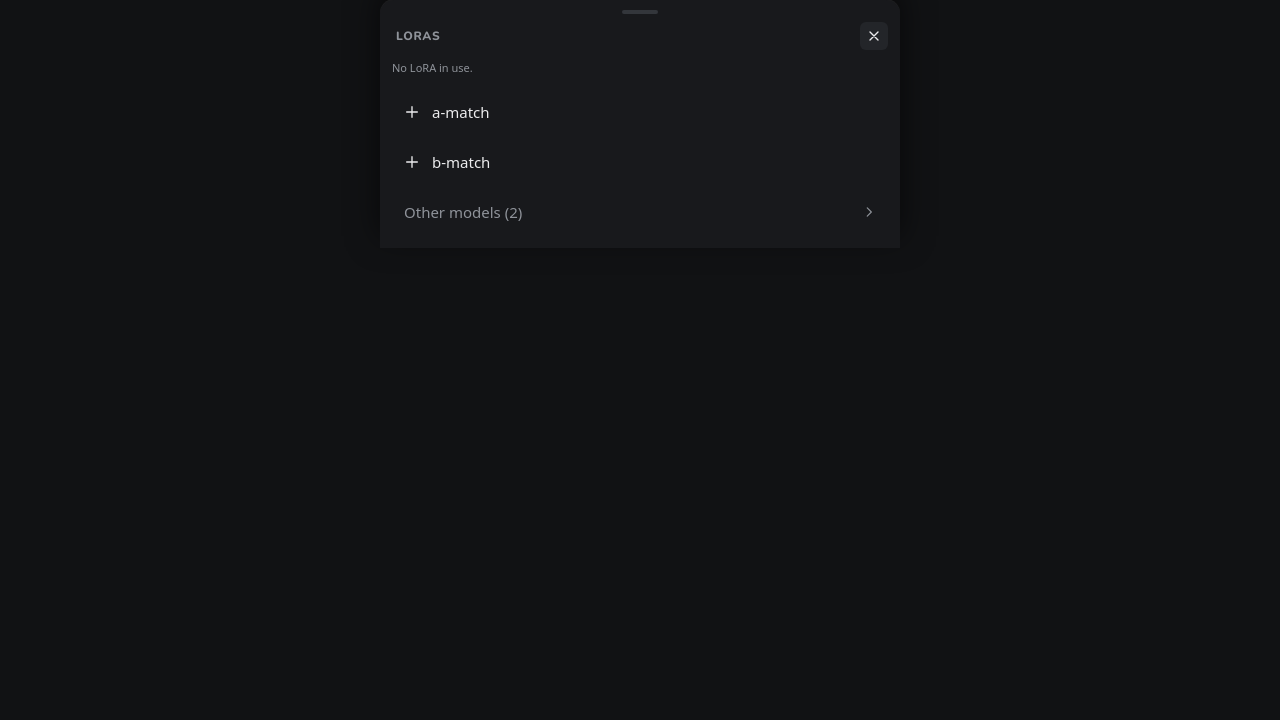
Test: SettingPopover LoRA list › expands the fold in place and shows the family label beside each folded LoRA
Click the button "Other models (2)" at (463, 212), box 392,188 -> 888,236
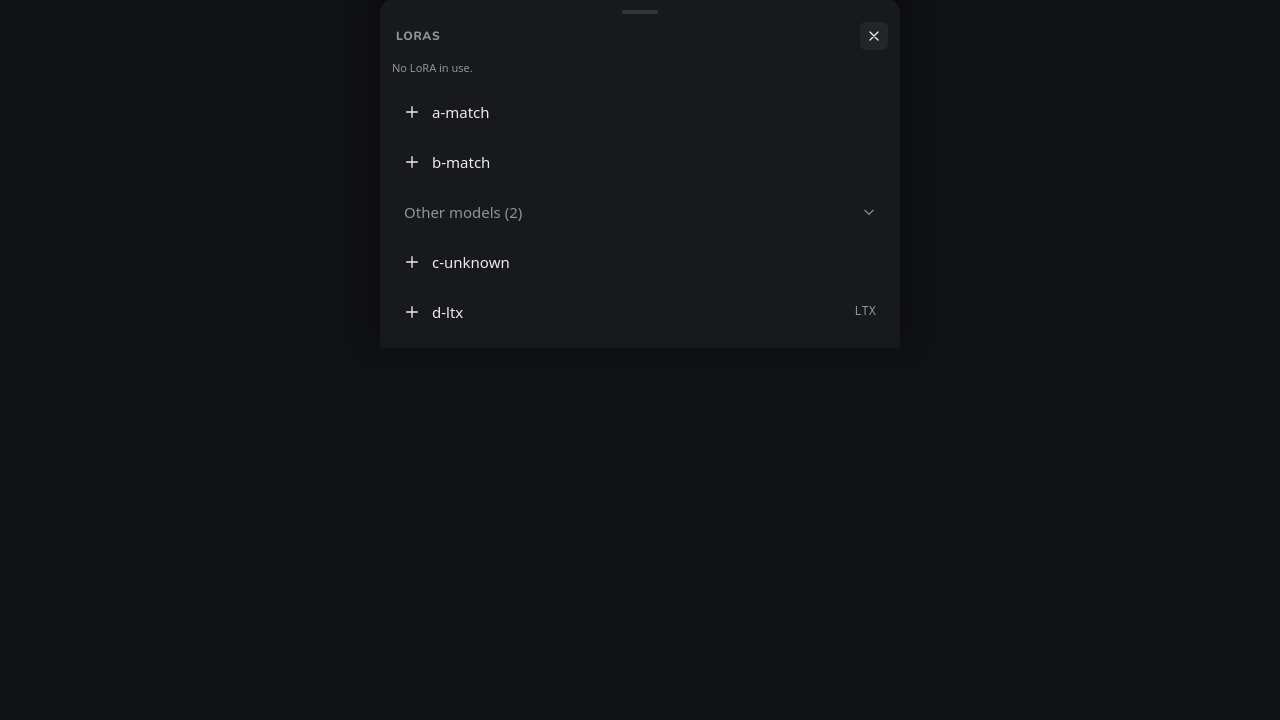
Now the button "d-ltx LTX" is shown, box 392,288 -> 888,336
